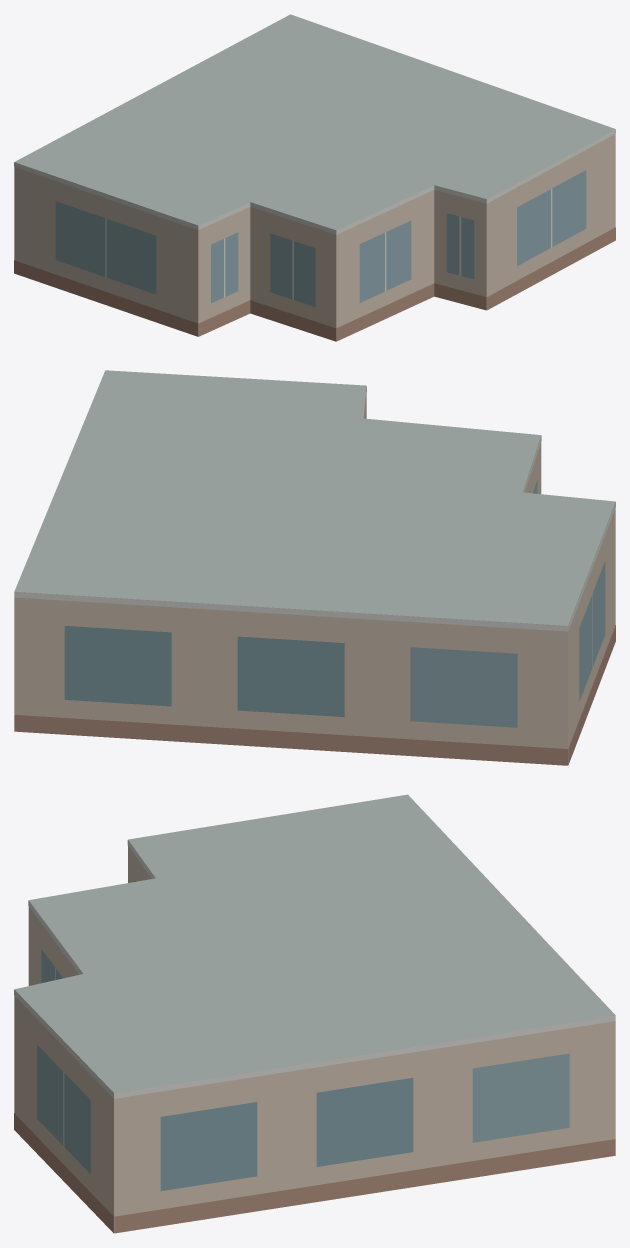
File: survey-upis-32624712.glb
3 views of the same model, one above another, from view 1: azimuth 30°, elevation 25°; view 2: azimuth 150°, elevation 25°; view 3: azimuth 270°, elevation 25° (orthographic). The views are drawn at different scales.
Parts seen in each view (by area): view 1: survey-upis-32624712.tmp; view 2: survey-upis-32624712.tmp; view 3: survey-upis-32624712.tmp.
Part boxes in pixels (x1,y1,x2,y2): survey-upis-32624712.tmp: (14, 14, 615, 341); survey-upis-32624712.tmp: (14, 370, 615, 765); survey-upis-32624712.tmp: (14, 794, 615, 1233).
Size of the model in its own units: 13.92 by 3.05 by 11.86.
